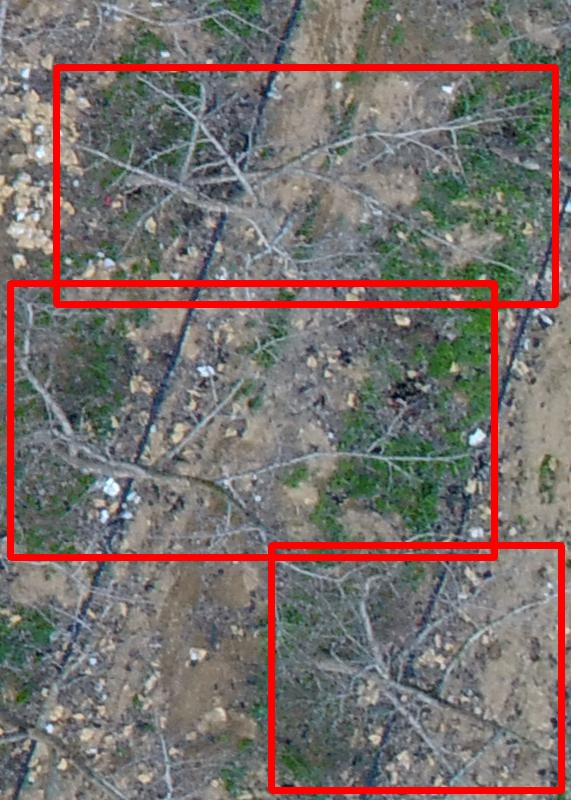apple: (10, 283, 494, 557), (56, 67, 555, 304), (271, 545, 561, 790)
